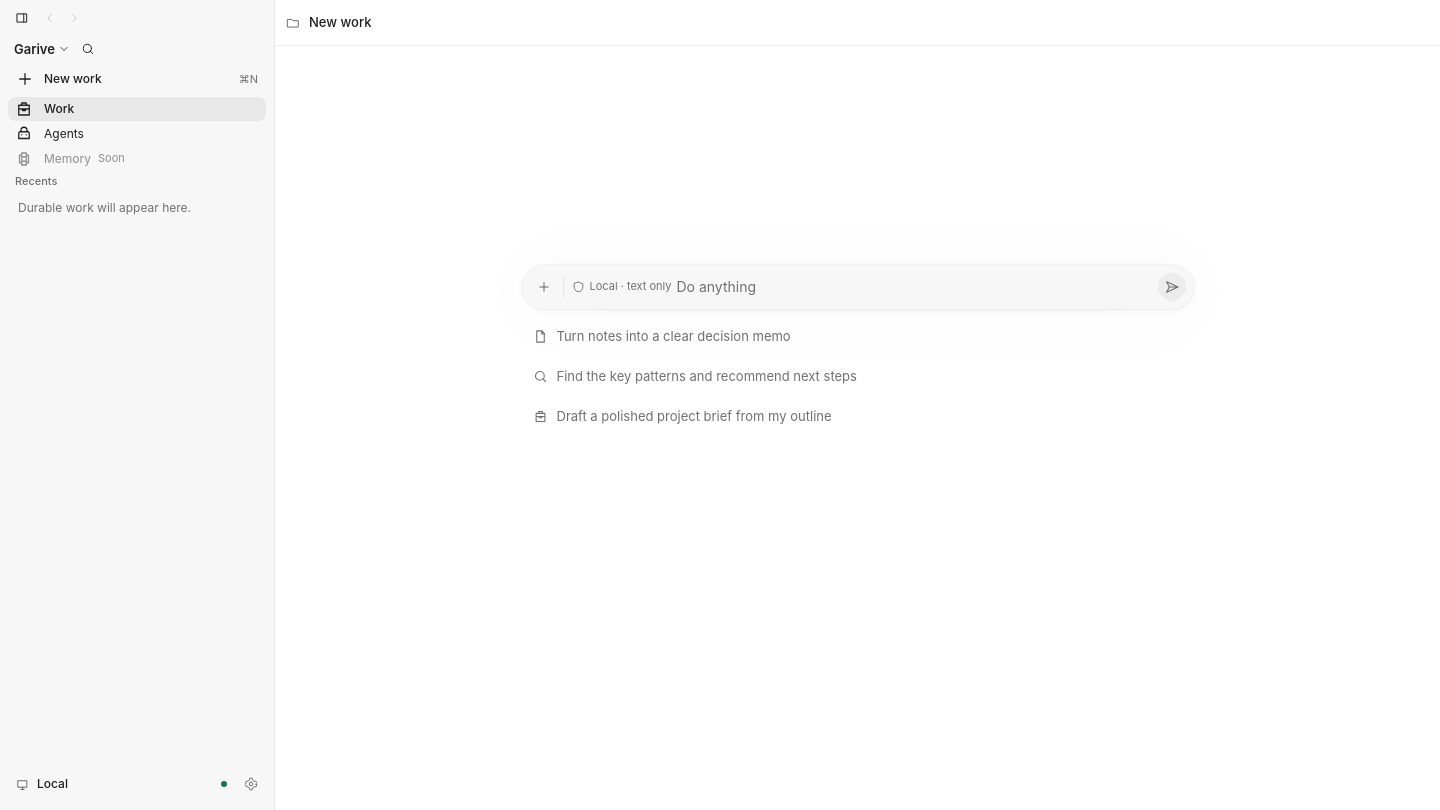
Test: Desktop product experience › keeps desktop identity in the rail and execution state out of window chrome
Expected: the button "Turn notes into a clear decision memo" is shown, [522,317,1194,357]
Click the button with aria-label "Local Runtime · Runtime ready".
click(121, 784)  # box [8,768,234,800]
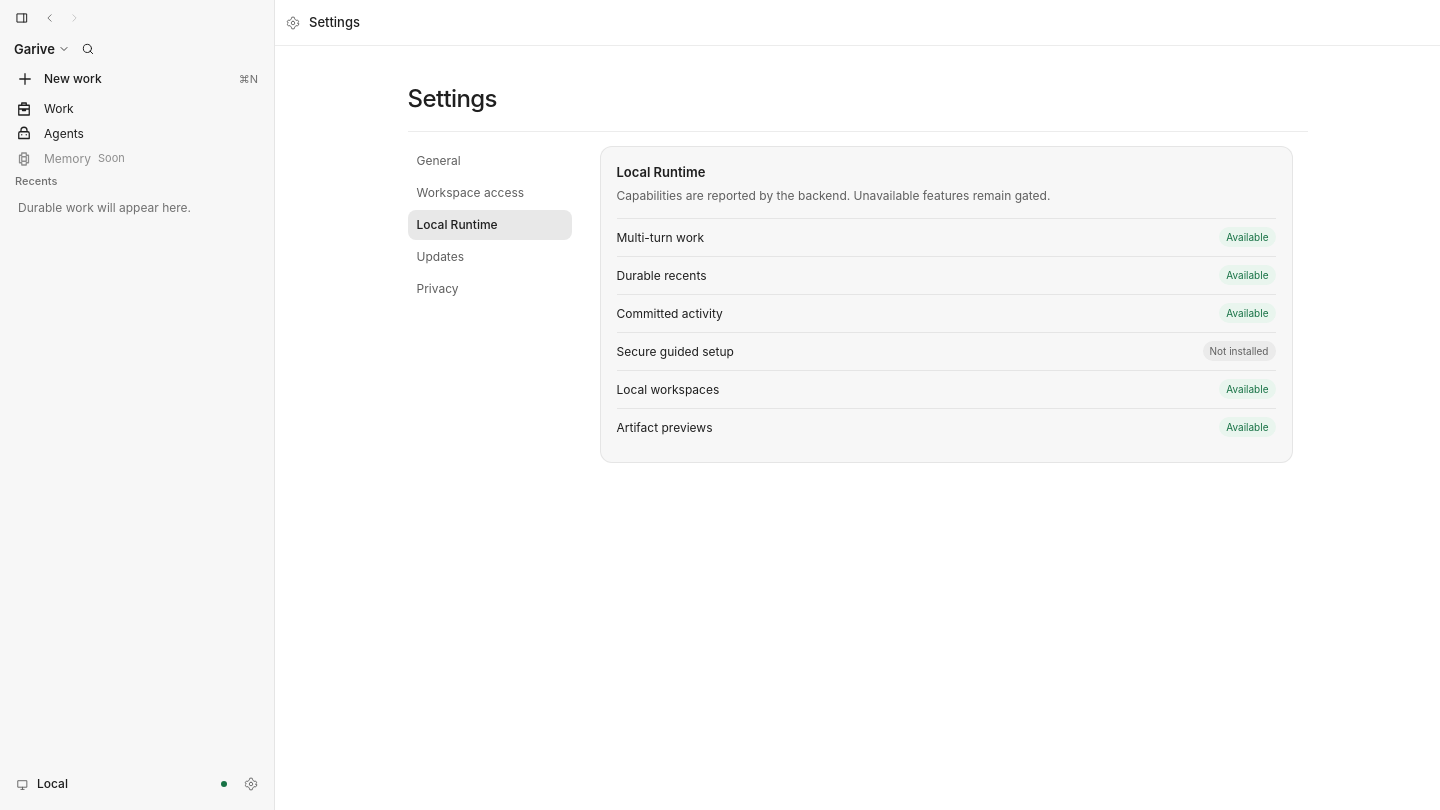
Now the heading "Local Runtime" is shown, box [616,164,705,180]
